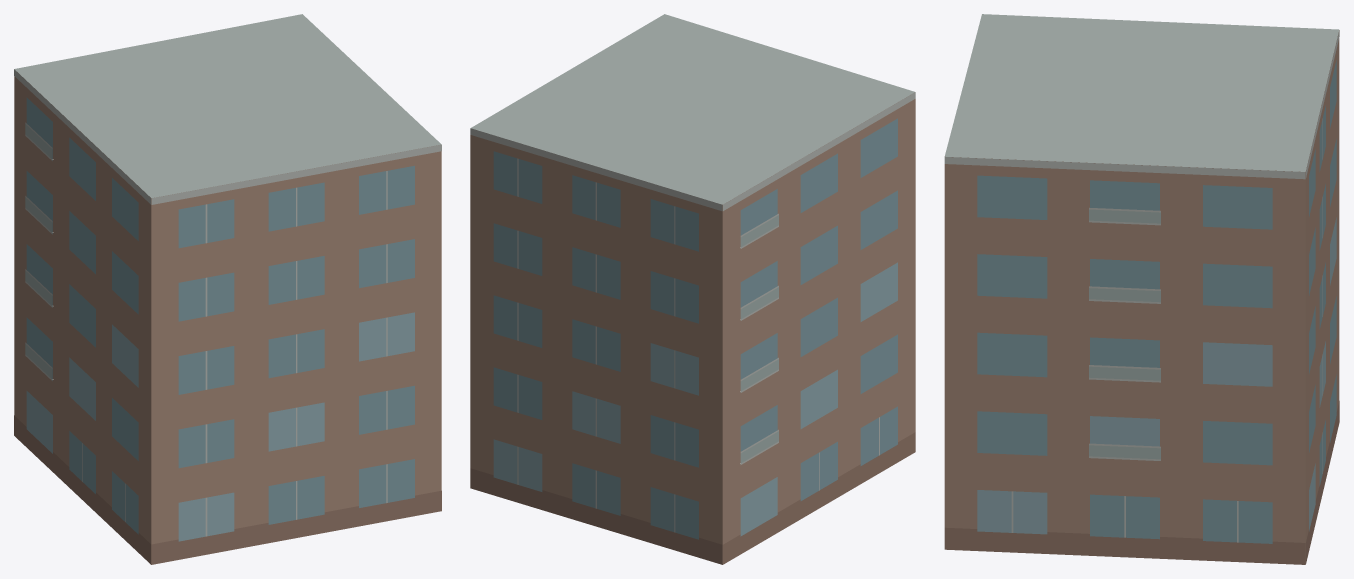
The model's file is survey-upis-32871528.glb.
The picture shows the model from 3 angles, left to right: view 1: azimuth 30°, elevation 25°; view 2: azimuth 150°, elevation 25°; view 3: azimuth 270°, elevation 25°; orthographic projection. The views are drawn at different scales.
Visible parts, largest first — view 1: survey-upis-32871528.tmp; view 2: survey-upis-32871528.tmp; view 3: survey-upis-32871528.tmp.
Boxes of the visible parts, left/top/right/bottom form: survey-upis-32871528.tmp: left=14, top=14, right=441, bottom=564; survey-upis-32871528.tmp: left=470, top=14, right=915, bottom=564; survey-upis-32871528.tmp: left=944, top=14, right=1339, bottom=564.
Size of the model in its own units: 11.39 by 13.2 by 12.03.
